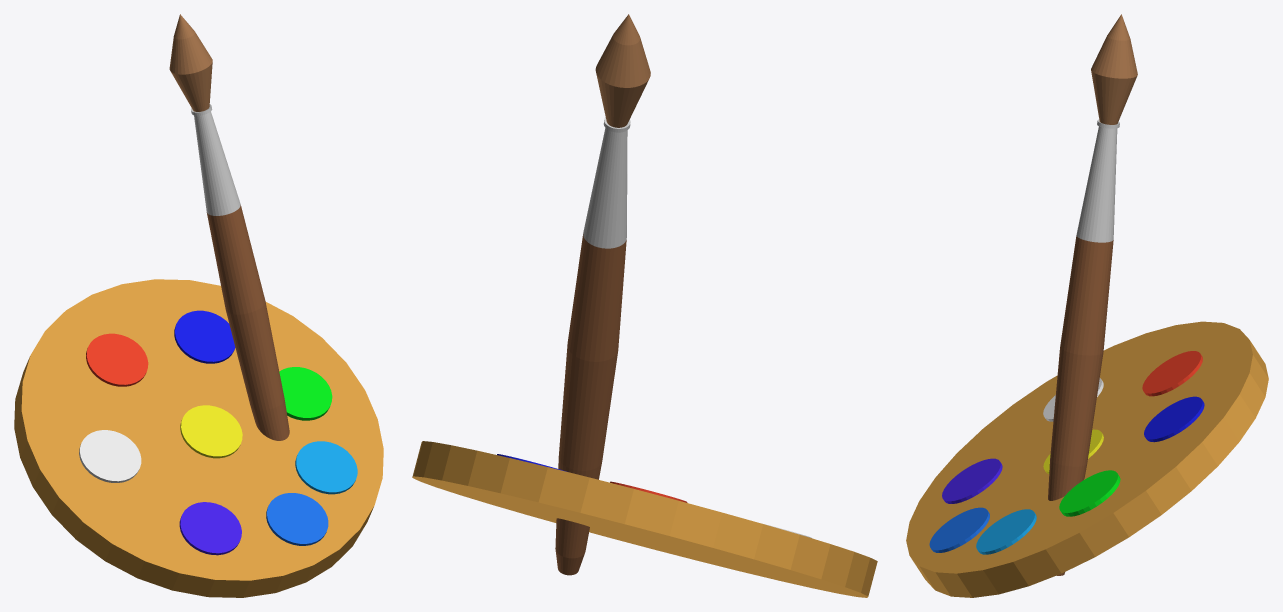
The model's file is artist.glb.
3 views of the same model, side by side, from view 1: azimuth 30°, elevation 25°; view 2: azimuth 150°, elevation 25°; view 3: azimuth 270°, elevation 25° (orthographic). The views are drawn at different scales.
Parts seen in each view (by area): view 1: anchor_pos, anchor_neg; view 2: anchor_pos, anchor_neg; view 3: anchor_pos, anchor_neg.
Part boxes in pixels (x1,y1,x2,y2): anchor_pos: [14, 279, 383, 597]; anchor_neg: [169, 14, 289, 440]; anchor_pos: [412, 441, 877, 597]; anchor_neg: [555, 14, 650, 575]; anchor_pos: [906, 321, 1268, 597]; anchor_neg: [1048, 14, 1137, 575].
Bounding box in the file's own units: 0.349 × 0.5249 × 0.3141.
